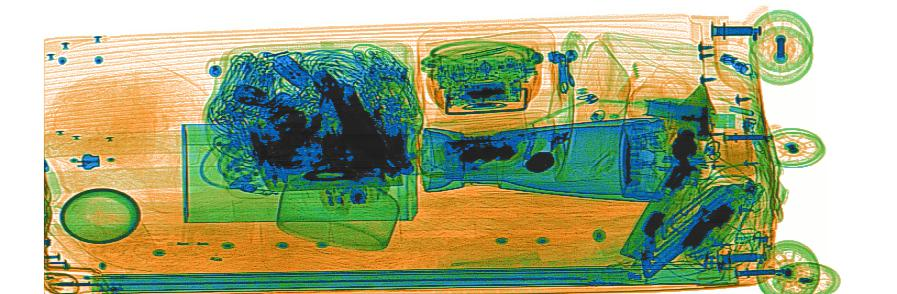battery: (640, 95, 710, 124)
